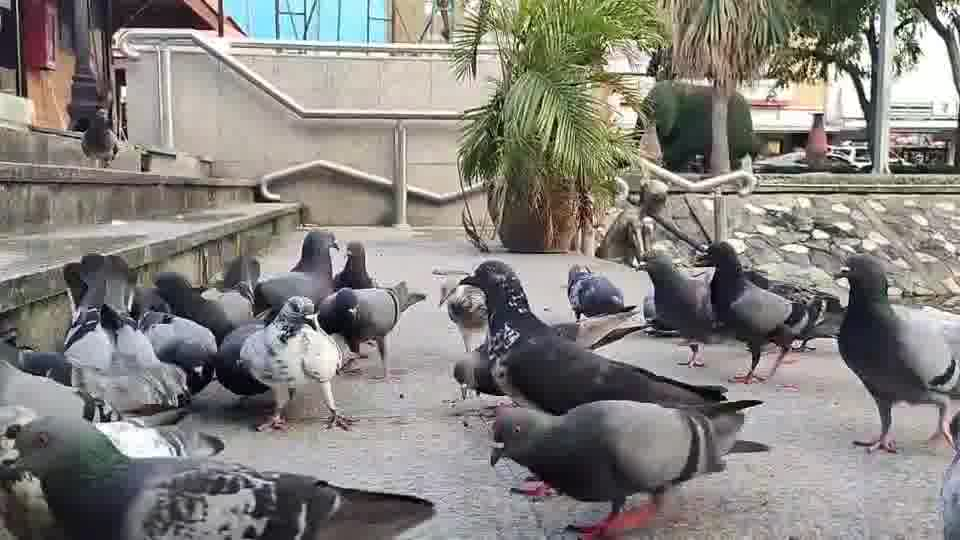Pigeon: (4, 414, 436, 538), (456, 260, 754, 414), (486, 397, 769, 537), (832, 252, 959, 454), (692, 239, 822, 384), (237, 294, 359, 432), (316, 279, 427, 383), (634, 251, 718, 367), (79, 108, 122, 168)
